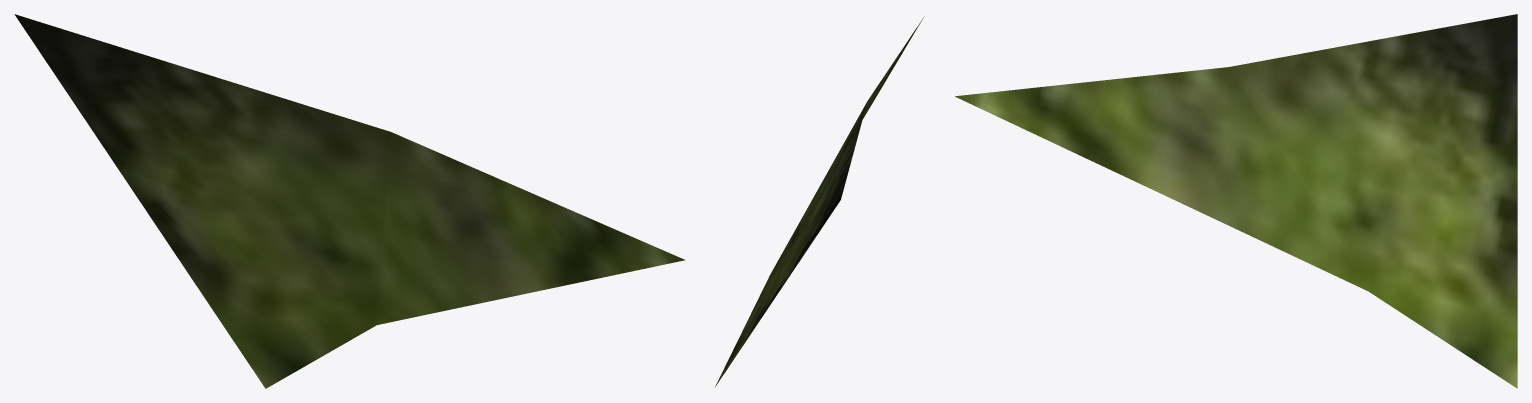
3 renders of one model, left to right at view 1: azimuth 30°, elevation 25°; view 2: azimuth 150°, elevation 25°; view 3: azimuth 270°, elevation 25°, orthographic. The views are drawn at different scales.
Bounding box in the file's own units: 0.2855 × 0.4733 × 0.826.
1 material, 1 textured.
